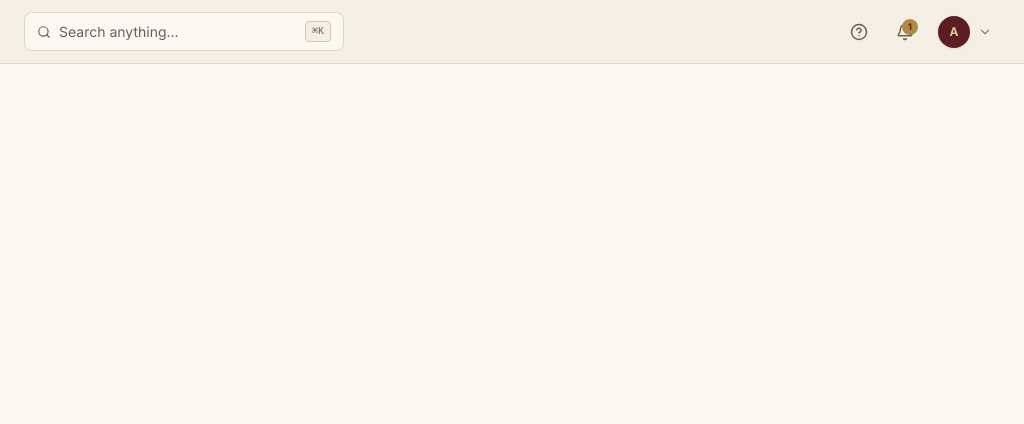
Scenario: shell notification panel and account menu › English session keeps the previous chrome sentences
Click the button named "Notifications, 1 unread": (905, 32) [888,14,922,48]
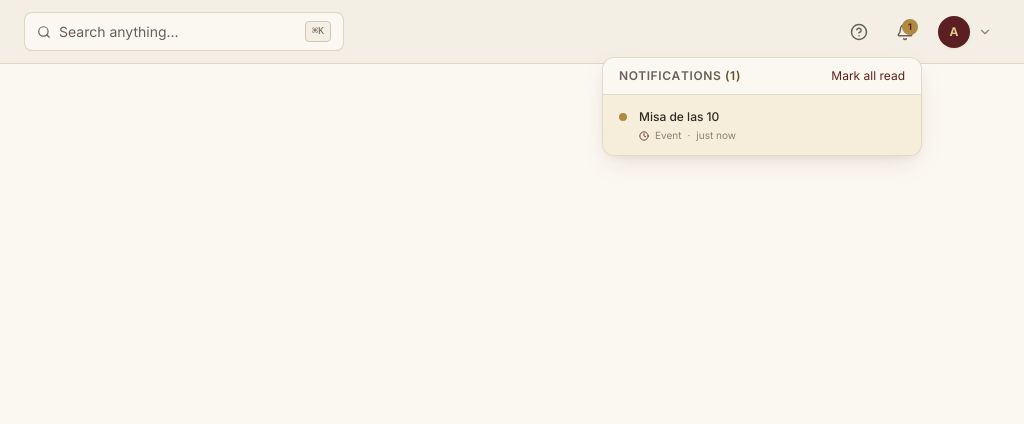
Now the button "Mark all read" is shown, box [831,68,905,84]
Now the text "Event" is shown, box [655,128,682,143]
Now the text "just now" is shown, box [696,128,736,143]
Click the button named "Account menu for Ana": (967, 32) [934,12,1000,52]
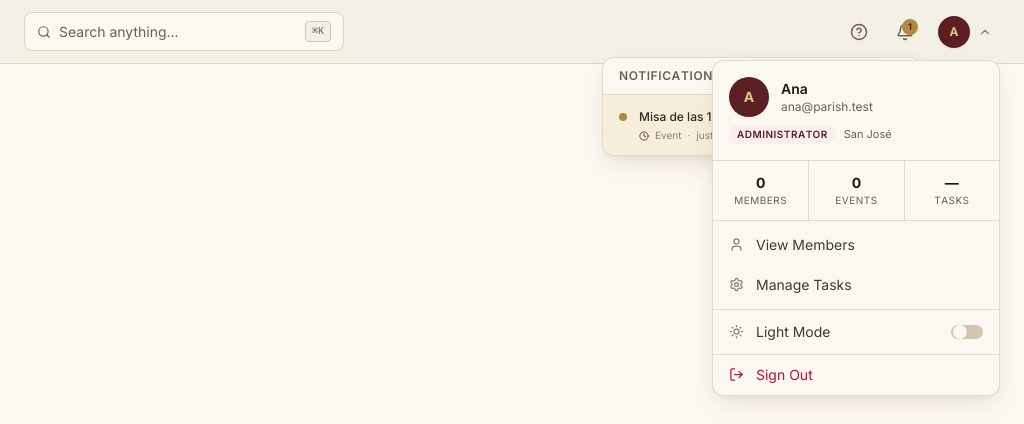
Now the text "Administrator" is shown, box [729,124,836,144]
Now the button "View Members" is shown, box [713,224,999,264]
Now the button "Manage Tasks" is shown, box [713,264,999,304]
